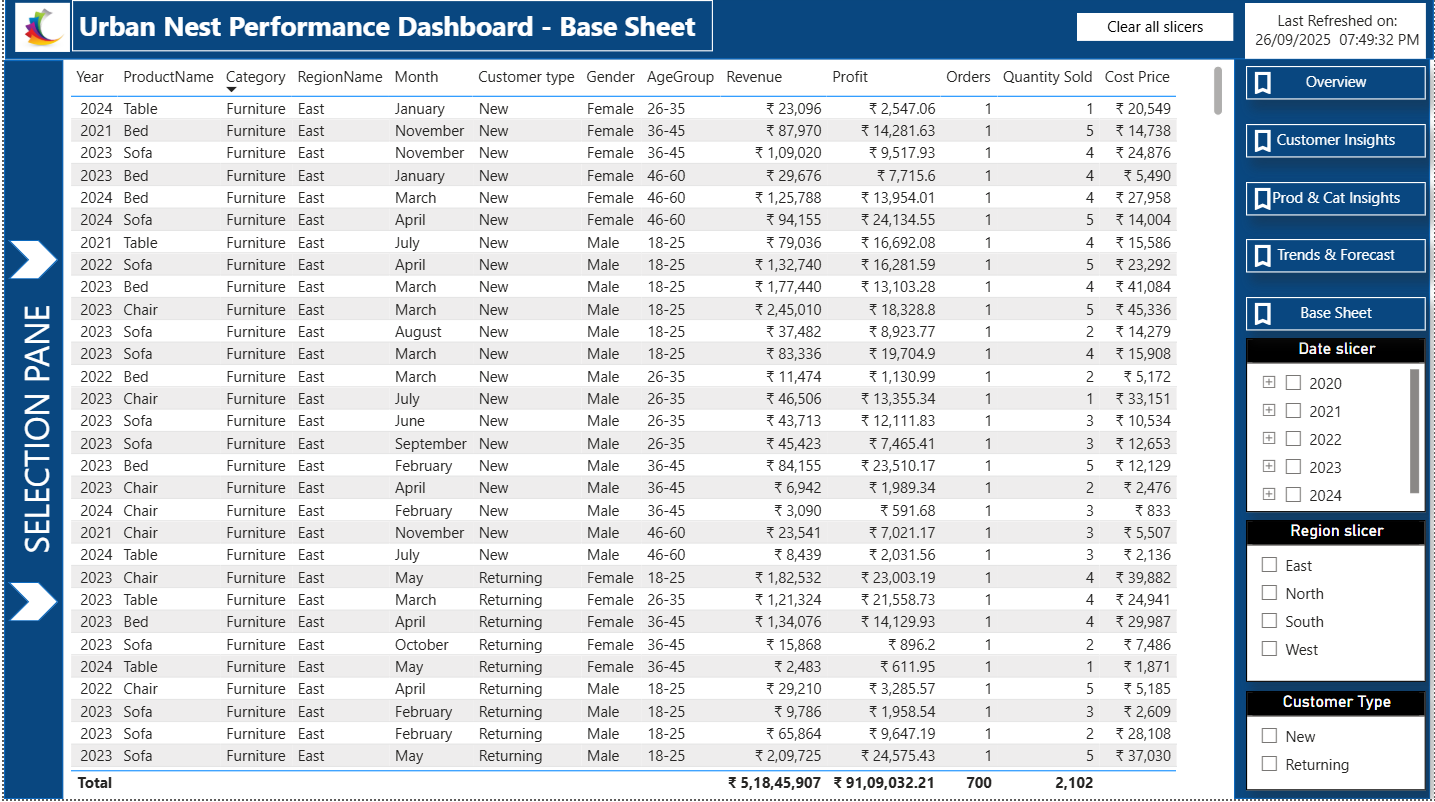

The page's visual inventory and layout, read from the dashboard file:
{"tool":"powerbi","page":{"name":"Base Sheet","canvas":[1280,720],"ordinal":4},"visuals":[{"type":"group","id":"g1","title":"page1 layout","box":[0.5,0,1279.5,720],"z":0},{"type":"shape","box":[1100.9,0,175.6,720],"z":0,"group":"g1"},{"type":"shape","title":"rectangle shape","box":[0,58.2,53.2,661.9],"z":0,"group":"g2"},{"type":"tableEx","fields":{"Values":["Calendar table.Year","Products.ProductName","Products.Category","Regions.RegionName","Calendar table.Month","Customers.CustomerType","Customers.Gender","Customers.AgeGroup","Measure table.Total revenue","Measure table.Total Profit","Measure table.Total orders","Measure table.total quantity sold"]},"box":[53.4,58.4,1043.1,661.2],"z":500,"group":"g2"},{"type":"shape","box":[0,268.5,54.3,241.1],"z":1000,"group":"g2"},{"type":"slicer","title":"Date slicer","fields":{"Values":["Calendar table.Date Hierarchy.Year","Calendar table.Date Hierarchy.Quarter","Calendar table.Date Hierarchy.Month"]},"box":[1111.6,307,161,156],"z":1000,"group":"g1"},{"type":"group","id":"g2","title":"CLose slicer","box":[0,58.2,1096.6,661.9],"z":2000},{"type":"shape","box":[3.5,218.9,45,35.2],"z":2000,"group":"g2"},{"type":"slicer","title":"Region slicer","fields":{"Values":["Regions.RegionName"]},"box":[1111.6,470.5,161,145],"z":2000,"group":"g1"},{"type":"shape","box":[0.5,0,1279.5,57.6],"z":3000,"group":"g1"},{"type":"shape","box":[3.5,525.2,45,35.2],"z":3000,"group":"g2"},{"type":"slicer","title":"Customer Type","fields":{"Values":["Customers.CustomerType"]},"box":[1111.6,623,161,89],"z":4000,"group":"g1"},{"type":"actionButton","title":"Overview","box":[1111.5,63.8,161.4,30.1],"z":5000,"group":"g1"},{"type":"actionButton","title":"Overview","box":[1111.5,115.5,161,30.1],"z":6000,"group":"g1"},{"type":"actionButton","title":"Overview","box":[1111.5,167.2,161.4,30],"z":7000,"group":"g1"},{"type":"actionButton","title":"Overview","box":[1111.5,218.8,161.4,30.1],"z":8000,"group":"g1"},{"type":"actionButton","title":"Overview","box":[1111.5,270.4,161.4,30.1],"z":9000,"group":"g1"},{"type":"image","box":[7.6,0,53.2,57.6],"z":10000,"group":"g1"},{"type":"card","fields":{"Values":["Measure table.Last refresh"]},"box":[1110.7,7.5,161.8,49.8],"z":11000,"group":"g1"},{"type":"textbox","box":[60.1,4.5,574,45.7],"z":12000,"group":"g1"},{"type":"actionButton","box":[960.3,16,140.1,25.4],"z":13000,"group":"g1"}]}

Visuals, with their boxes on the page's 1280x720 design canvas (x1, y1, x2, y2). These are canvas units, not pixel positions in the 1435x802 screenshot, which may show the page scaled, cropped or inside an application window:
"page1 layout" group: 0, 0, 1280, 720
shape: 1101, 0, 1276, 720
"rectangle shape" shape: 0, 58, 53, 720
tableEx - Calendar table.Year x Products.ProductName: 53, 58, 1096, 720
shape: 0, 268, 54, 510
"Date slicer" slicer: 1112, 307, 1273, 463
"CLose slicer" group: 0, 58, 1097, 720
shape: 4, 219, 48, 254
"Region slicer" slicer: 1112, 470, 1273, 616
shape: 0, 0, 1280, 58
shape: 4, 525, 48, 560
"Customer Type" slicer: 1112, 623, 1273, 712
"Overview" actionButton: 1112, 64, 1273, 94
"Overview" actionButton: 1112, 116, 1272, 146
"Overview" actionButton: 1112, 167, 1273, 197
"Overview" actionButton: 1112, 219, 1273, 249
"Overview" actionButton: 1112, 270, 1273, 300
image: 8, 0, 61, 58
card - Measure table.Last refresh: 1111, 8, 1272, 57
textbox: 60, 4, 634, 50
actionButton: 960, 16, 1100, 41
